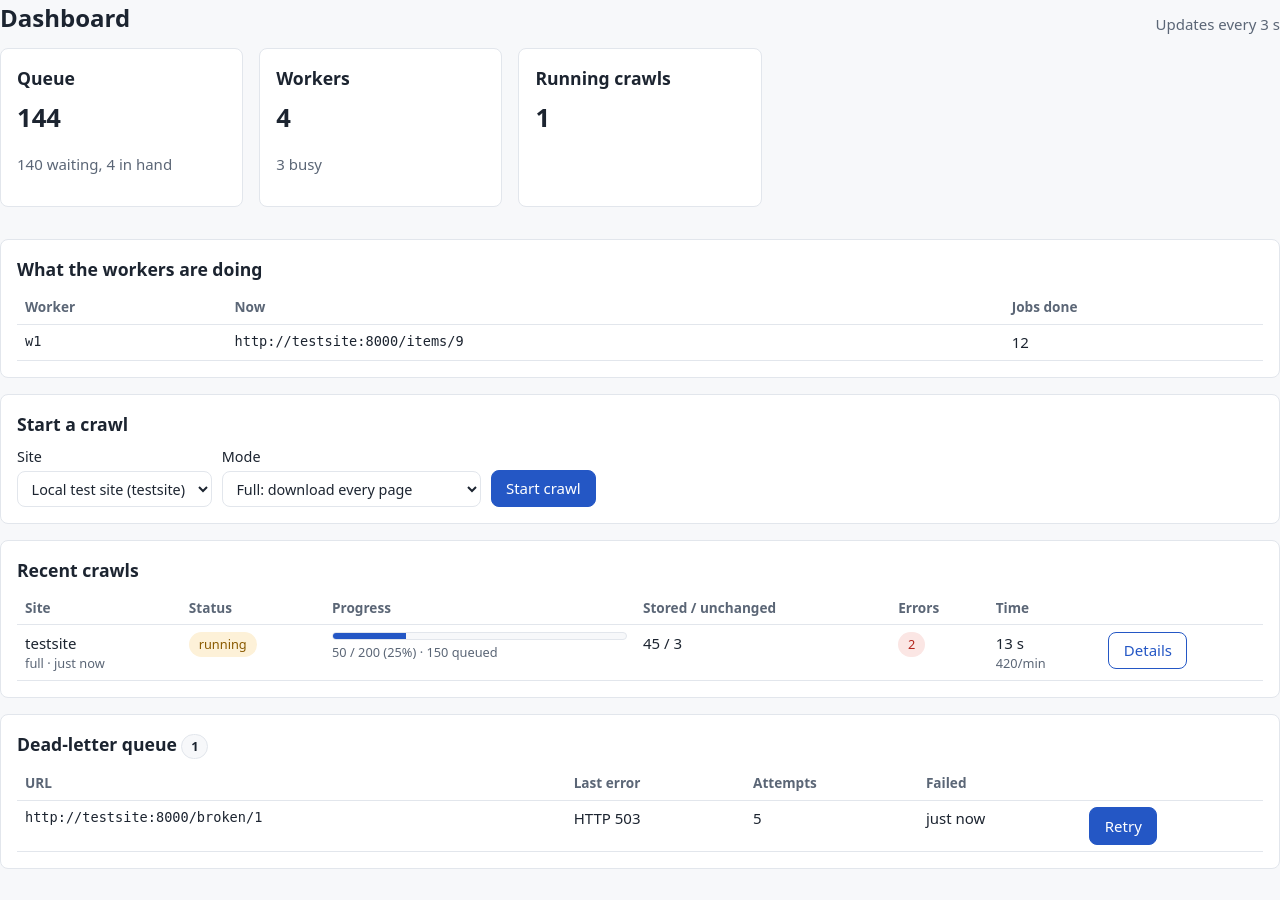
Scenario: Dashboard › lets an admin retry a dead-letter job
Expected: the text "http://testsite:8000/broken/1" is shown, 25,809 -> 262,825
Step 1. Click the button "Retry" → (1123,826), box 1089,807 -> 1157,845
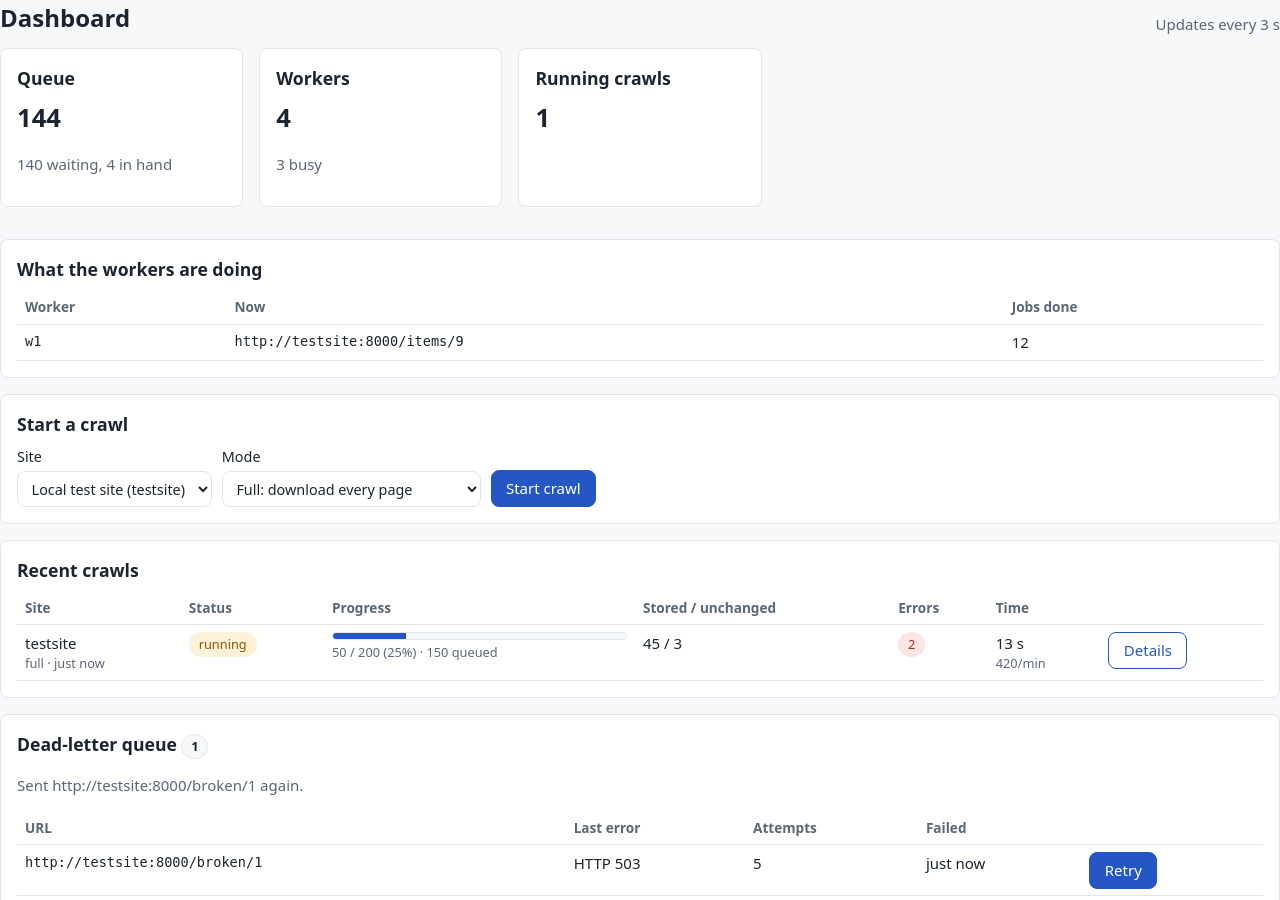
Expected: the text "Sent http://testsite:8000/broken/1 again." is shown, 17,775 -> 303,795
